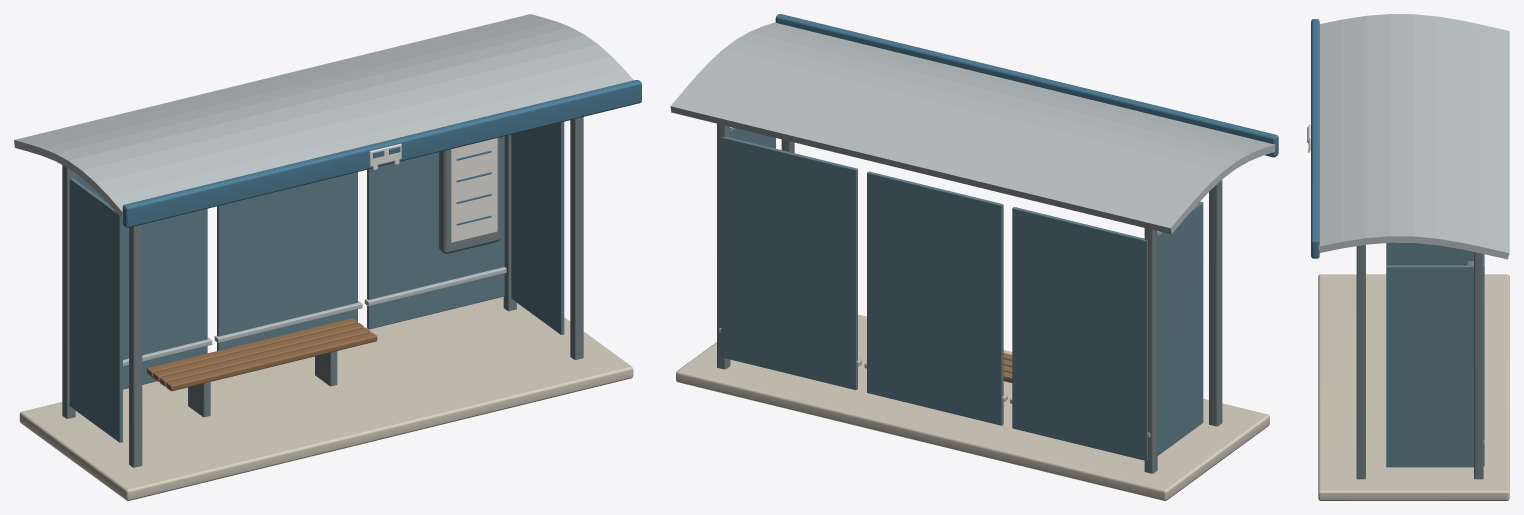
Rendered from BusStop.fbx.
3 renders of one model, left to right at view 1: azimuth 30°, elevation 25°; view 2: azimuth 150°, elevation 25°; view 3: azimuth 270°, elevation 25°, orthographic. The views are drawn at different scales.
Visible parts, largest first — view 1: Back glazing, Window lower rail, Shelter footing, Shelter column, Blue station fascia, Shelter bench, Route map backing; view 2: Back glazing, Window lower rail, Shelter footing, Shelter column, Blue station fascia; view 3: Window lower rail, Shelter footing, Back glazing, Shelter column, Blue station fascia.
Boxes of the visible parts, left/top/right/bottom form: Back glazing: left=69, top=121, right=564, bottom=442; Window lower rail: left=14, top=14, right=633, bottom=366; Shelter footing: left=19, top=296, right=633, bottom=500; Shelter column: left=62, top=117, right=583, bottom=467; Blue station fascia: left=122, top=80, right=641, bottom=227; Shelter bench: left=146, top=318, right=377, bottom=391; Route map backing: left=369, top=138, right=497, bottom=242; Back glazing: left=721, top=127, right=1203, bottom=460; Window lower rail: left=670, top=22, right=1275, bottom=437; Shelter footing: left=676, top=314, right=1269, bottom=500; Shelter column: left=717, top=123, right=1222, bottom=473; Blue station fascia: left=775, top=14, right=1278, bottom=157; Window lower rail: left=1318, top=14, right=1509, bottom=444; Shelter footing: left=1318, top=274, right=1509, bottom=500; Back glazing: left=1386, top=242, right=1484, bottom=467; Shelter column: left=1356, top=245, right=1483, bottom=479; Blue station fascia: left=1307, top=19, right=1319, bottom=258.
Size of the model in its own units: 550 by 309 by 211.
